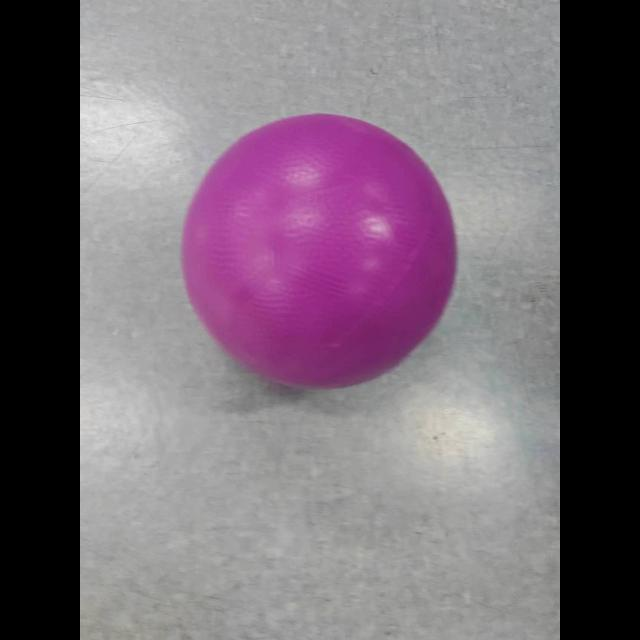P: (179, 111, 461, 393)
